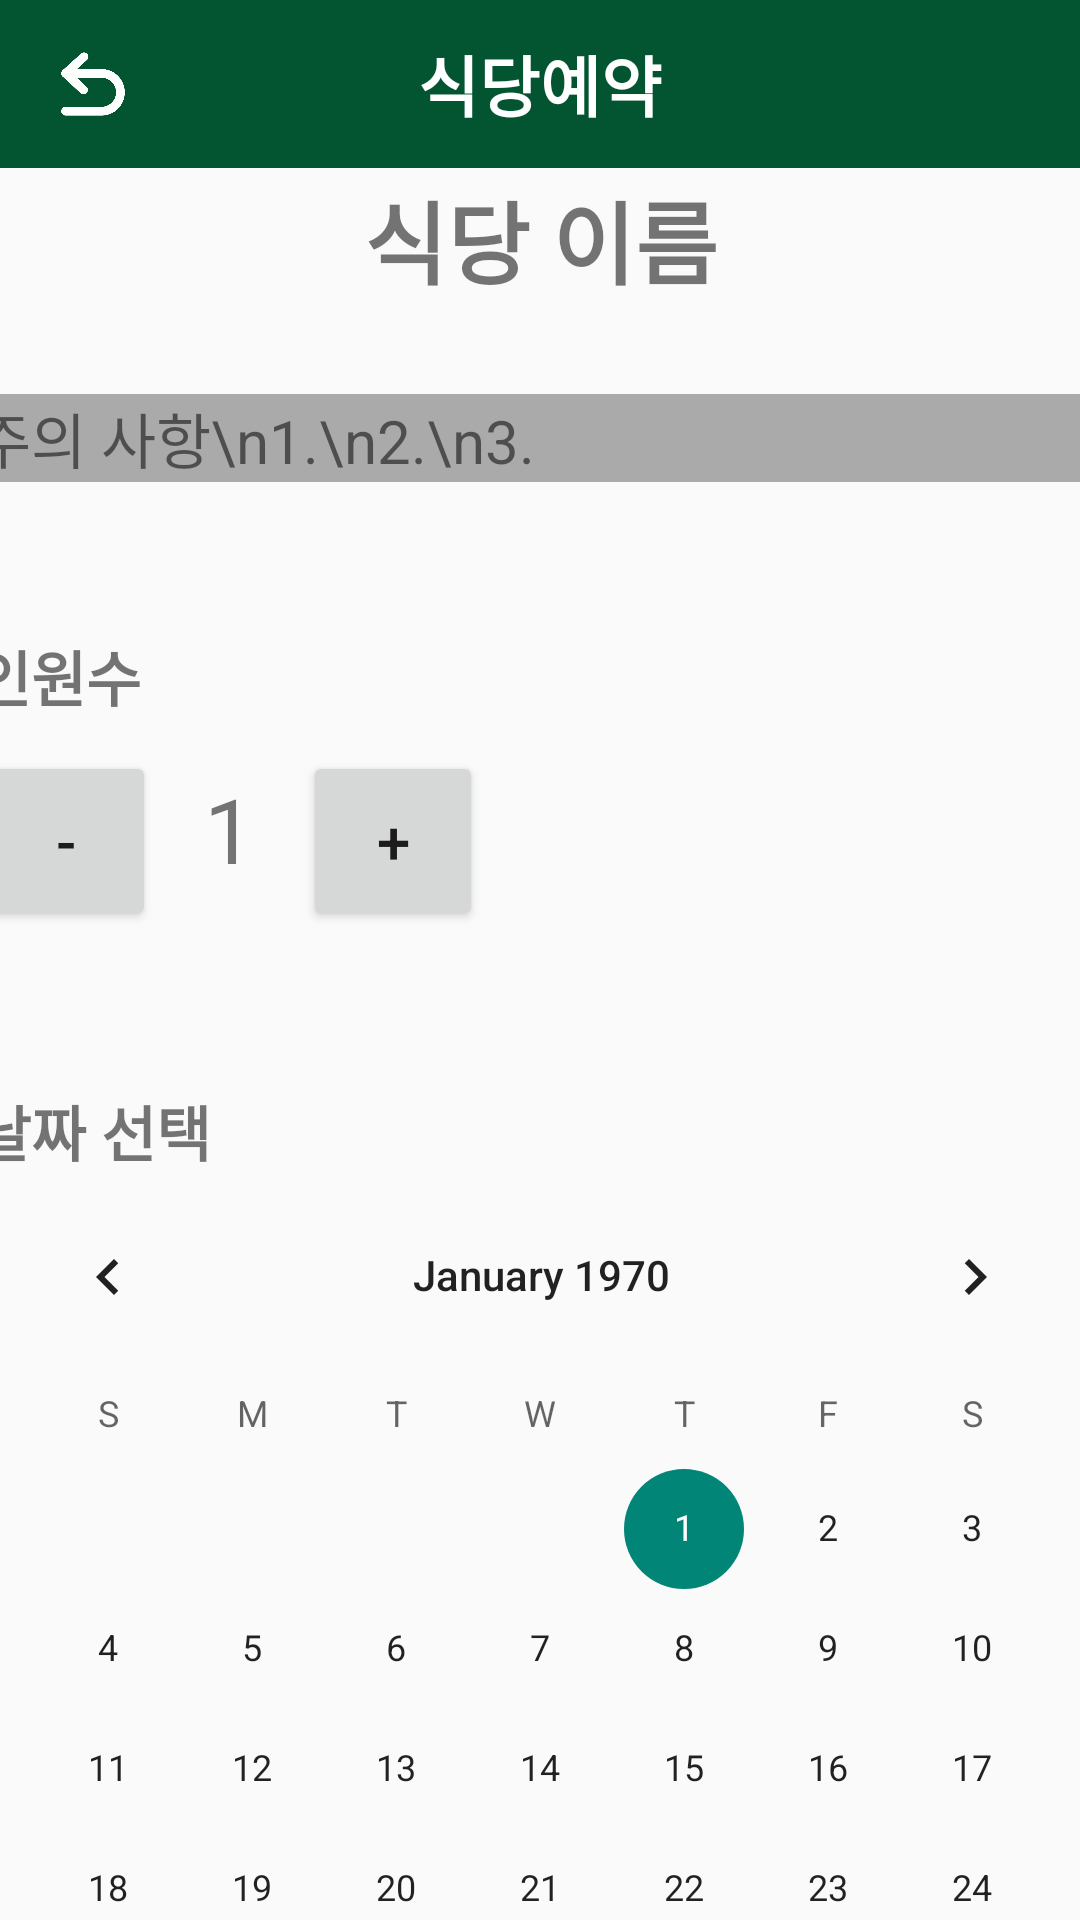

Screen size 1080 x 1920. Icon name, then its box in pixels as [left=x1, top=y1, right=x2, bottom=y2]:
exit: [left=61, top=52, right=125, bottom=116]
